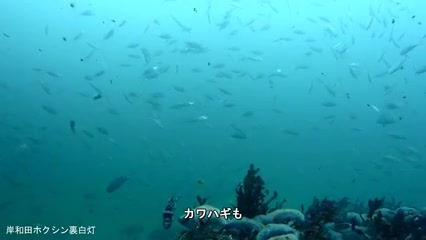smallfish: (399, 39, 422, 59)
